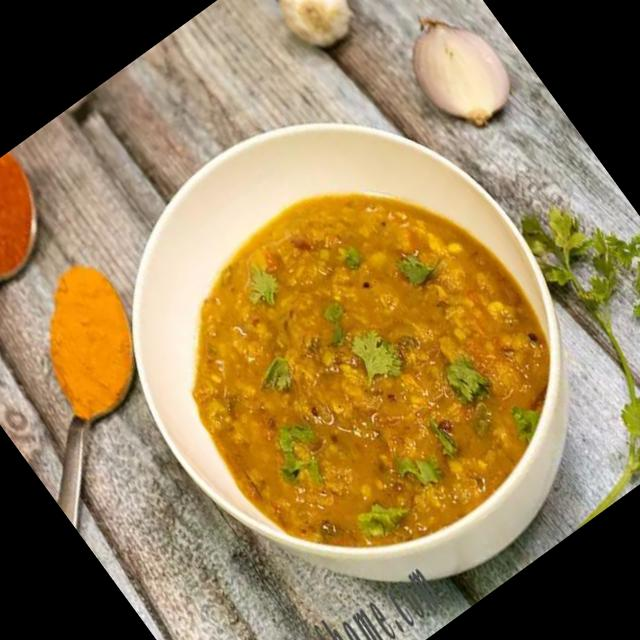dal: (116, 115, 605, 604)
